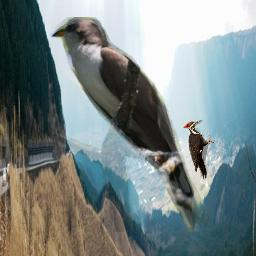Cuckoo: (50, 17, 213, 232)
Woodpecker: (183, 120, 214, 180)
